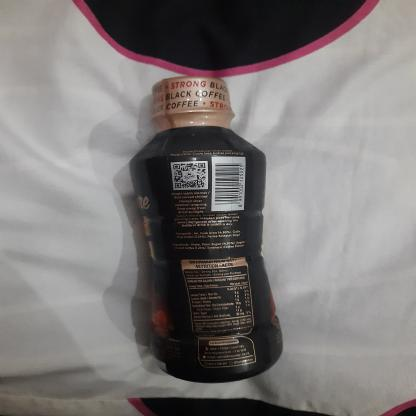plastic: (123, 74, 287, 385)
